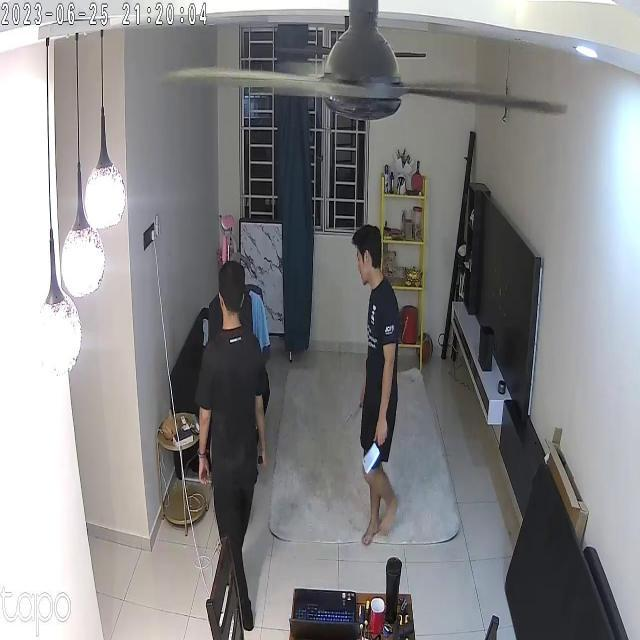Knife: (356, 435, 392, 480)
